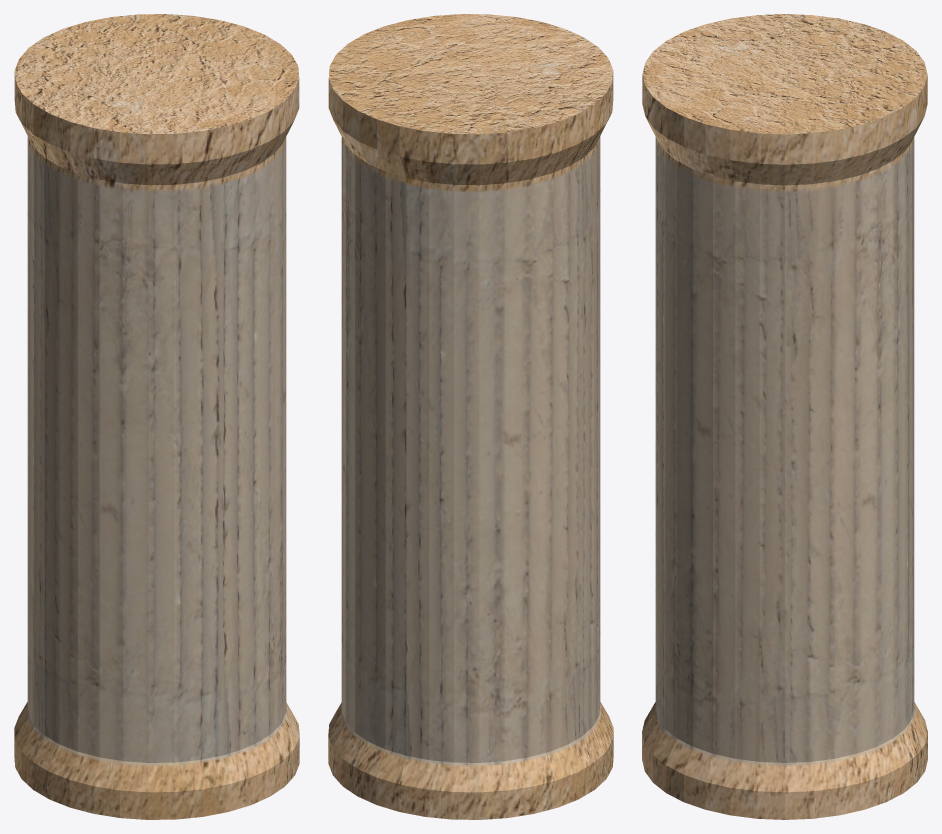
The model's file is pillar.fbx.
The picture shows the model from 3 angles, left to right: view 1: azimuth 30°, elevation 25°; view 2: azimuth 150°, elevation 25°; view 3: azimuth 270°, elevation 25°; orthographic projection.
Parts seen in each view (by area): view 1: Cylinder; view 2: Cylinder; view 3: Cylinder.
Boxes of the visible parts, left/top/right/bottom form: Cylinder: left=14, top=14, right=299, bottom=819; Cylinder: left=328, top=14, right=613, bottom=819; Cylinder: left=642, top=14, right=927, bottom=819.
Bounding box in the file's own units: 221 × 584 × 221.
Materials: 1 (1 with a texture image).
